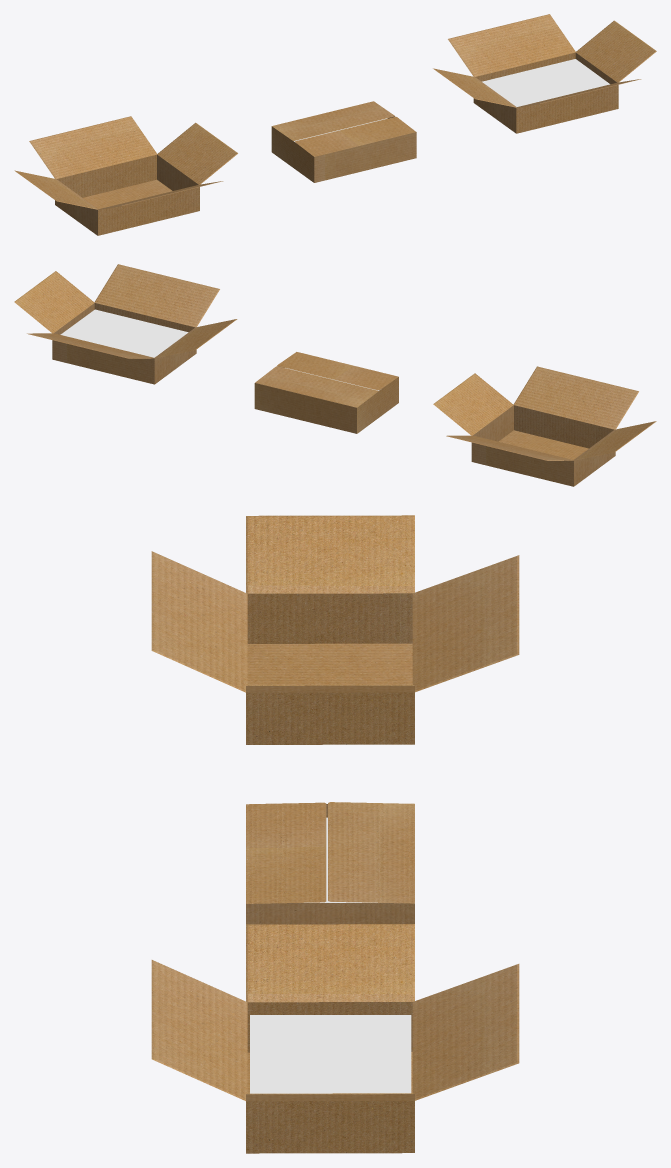
3 views of the same model, one above another, from view 1: azimuth 30°, elevation 25°; view 2: azimuth 150°, elevation 25°; view 3: azimuth 270°, elevation 25° (orthographic). The views are drawn at different scales.
Visible parts, largest first — view 1: Cardboard Box V1, Cardboard Box V3, Cardboard Box V2, Paper; view 2: Cardboard Box V1, Cardboard Box V3, Cardboard Box V2, Paper; view 3: Cardboard Box V1, Cardboard Box V3, Cardboard Box V2, Paper.
Boxes of the visible parts, left/top/right/bottom form: Cardboard Box V1: left=14, top=116, right=237, bottom=235; Cardboard Box V3: left=433, top=14, right=656, bottom=133; Cardboard Box V2: left=271, top=101, right=416, bottom=182; Paper: left=482, top=59, right=609, bottom=106; Cardboard Box V1: left=433, top=366, right=656, bottom=486; Cardboard Box V3: left=14, top=264, right=237, bottom=384; Cardboard Box V2: left=254, top=352, right=398, bottom=433; Paper: left=60, top=309, right=188, bottom=357; Cardboard Box V1: left=151, top=515, right=519, bottom=744; Cardboard Box V3: left=151, top=924, right=519, bottom=1153; Cardboard Box V2: left=246, top=802, right=414, bottom=924; Paper: left=250, top=1015, right=411, bottom=1093.
Bounding box in the file's own units: 1.8 × 0.1385 × 0.4782.
2 materials, 1 textured.
